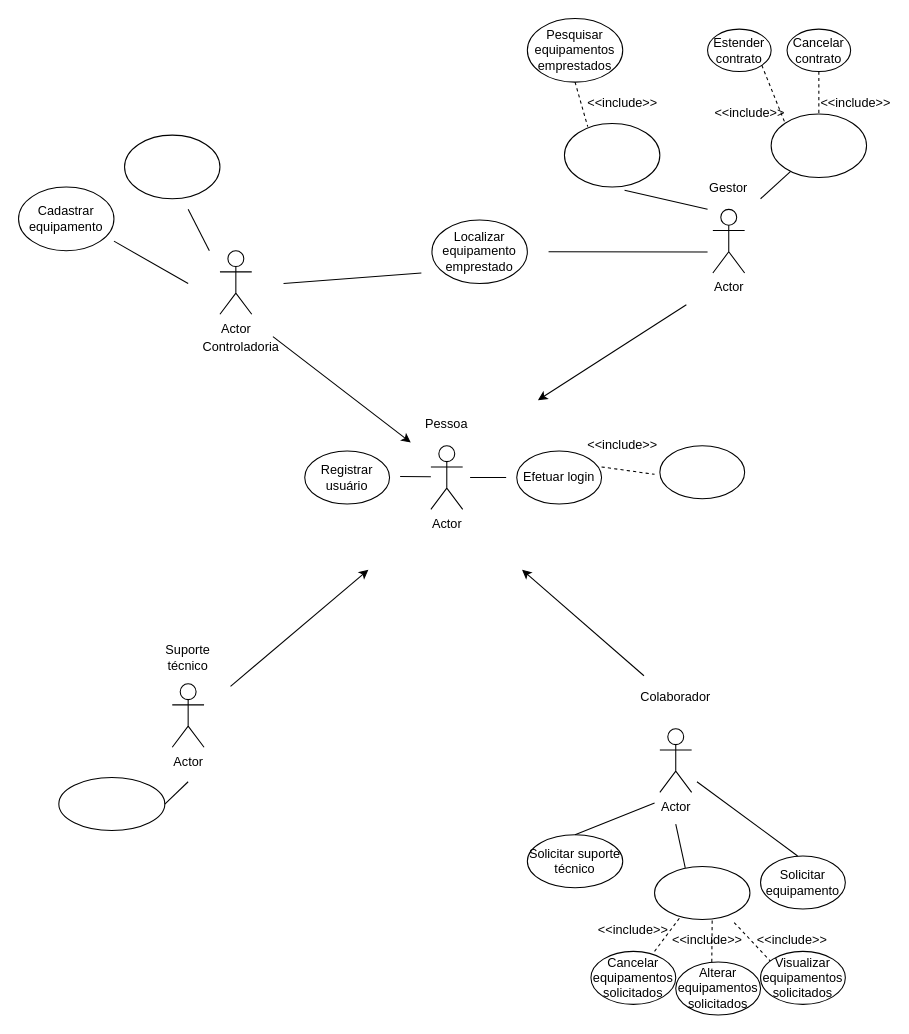
Some shapes in this 909 by 1034 pixel diagram are drawn without their labels. Each missing label, with the centre of its shape:
"Alterar senha" goes at (x=702, y=472).
"Conferir dados do colaborador" goes at (x=818, y=145).
"Designar equipamento p/ colaborador" goes at (x=111, y=803).
"Inserir centro de custo" goes at (x=171, y=166).
"Listar equipamentos solicitados" goes at (x=701, y=892).
"Pesquisar equipamento" goes at (x=611, y=154).
